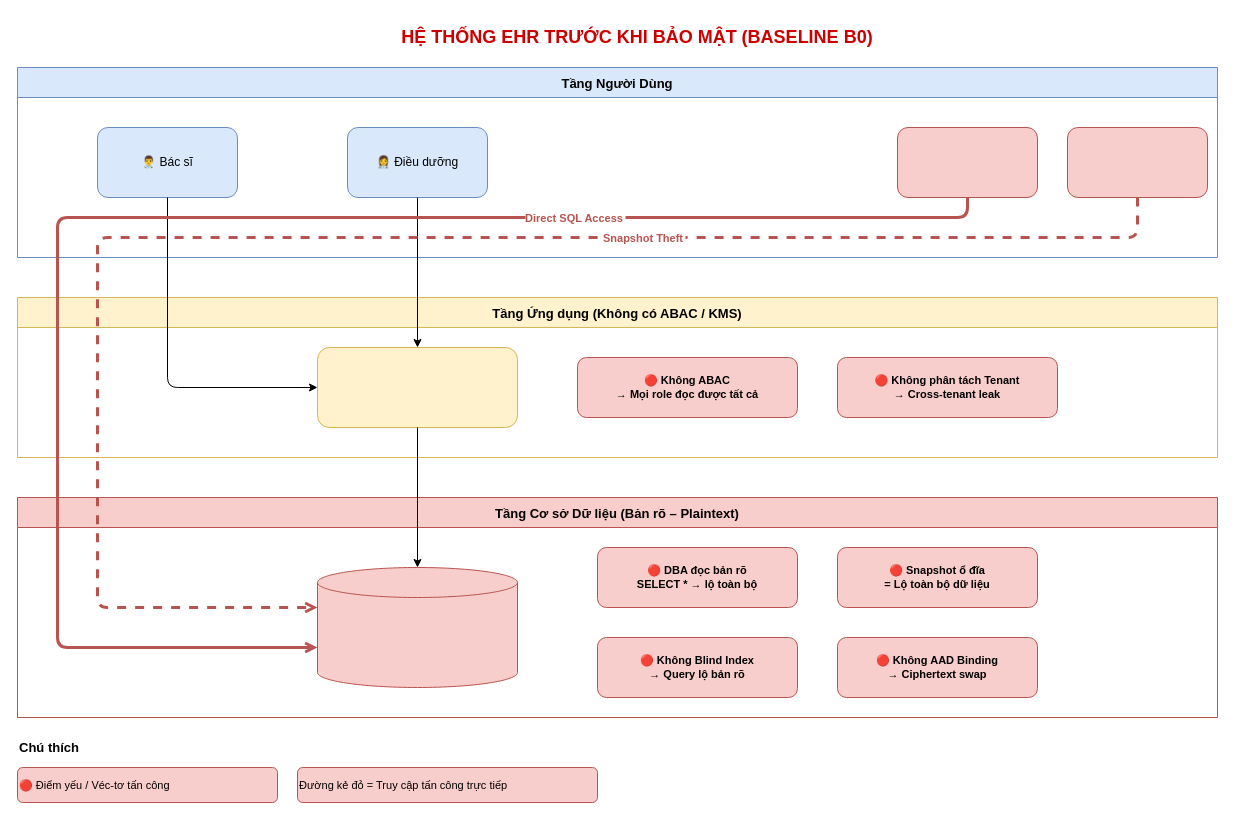
Some shapes in this 1235 by 820 pixel diagram are drawn without their labels. The centre of each missing label's shape, as x and y in pixels:
"☠️ Kẻ tấn công" belongs at point 1137,162.
"🖥️ App Server (Không xác thực trường)" belongs at point 417,387.
"🖥️ DBA" belongs at point 967,162.
"🗄️ PostgreSQL patient_records (bản rõ) diagnosis, medication, notes" belongs at point 417,627.
